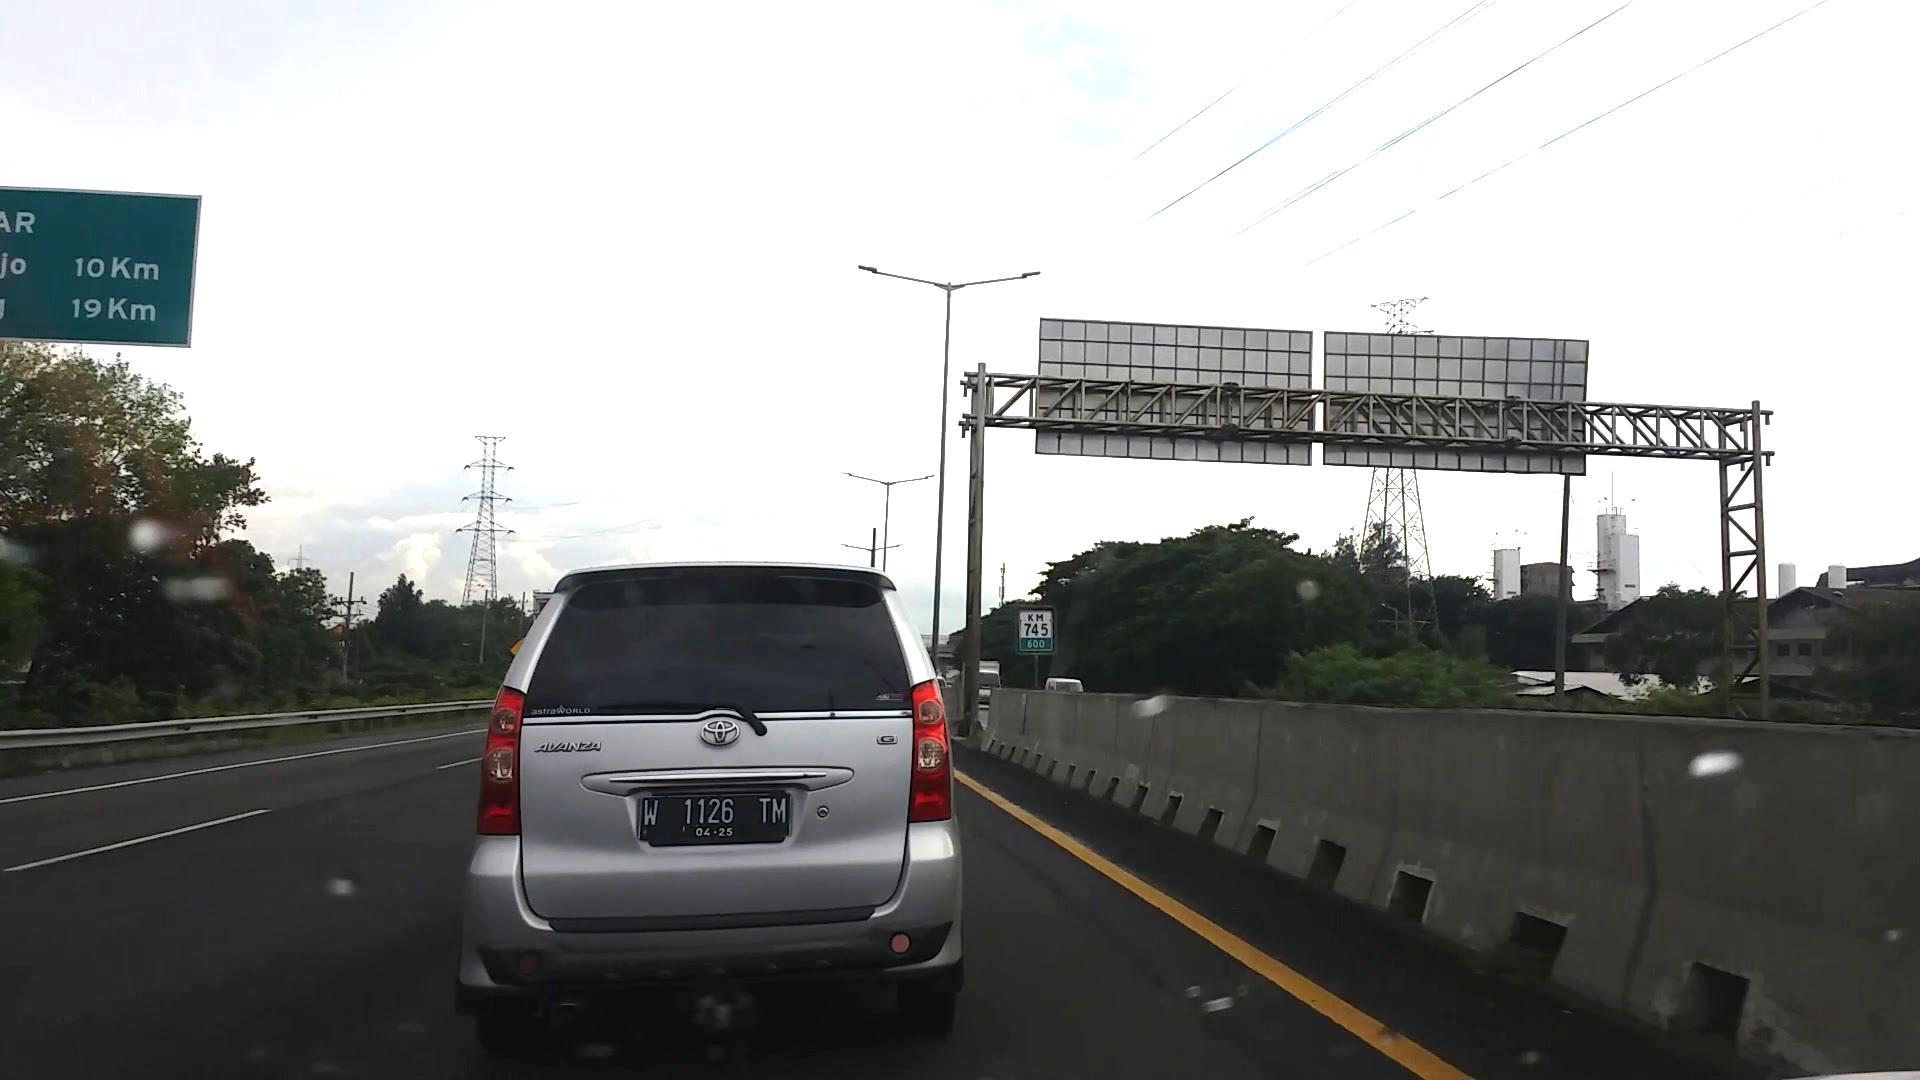plate_positive: (637, 795, 791, 839)
